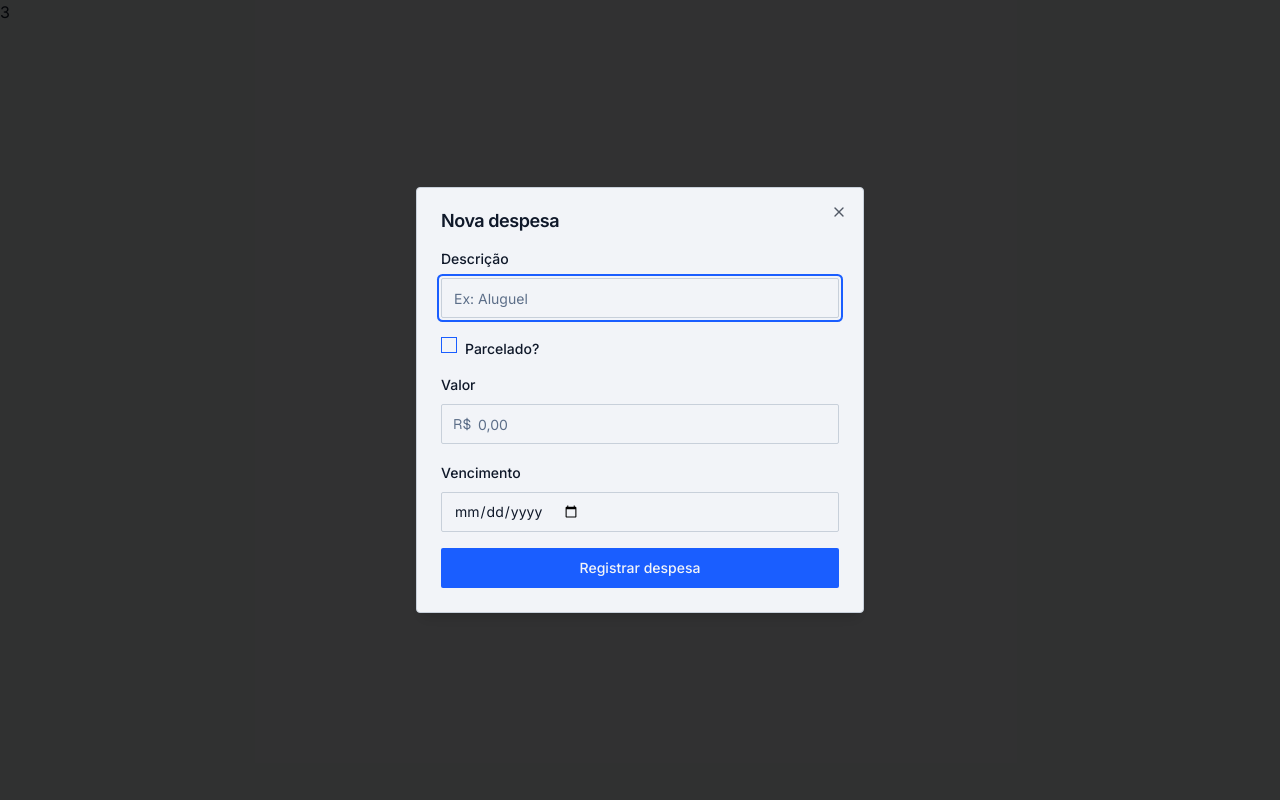
Test: LancamentoModal — Despesa parcelada › submeter parcelado envia 3 parcelas e lista a do mes vigente
Expected: the text with test id "total-despesas" reads "3", [0,2,10,22]
In the field labelled "Descrição": (640, 298) [441,278,839,318], type "Notebook"
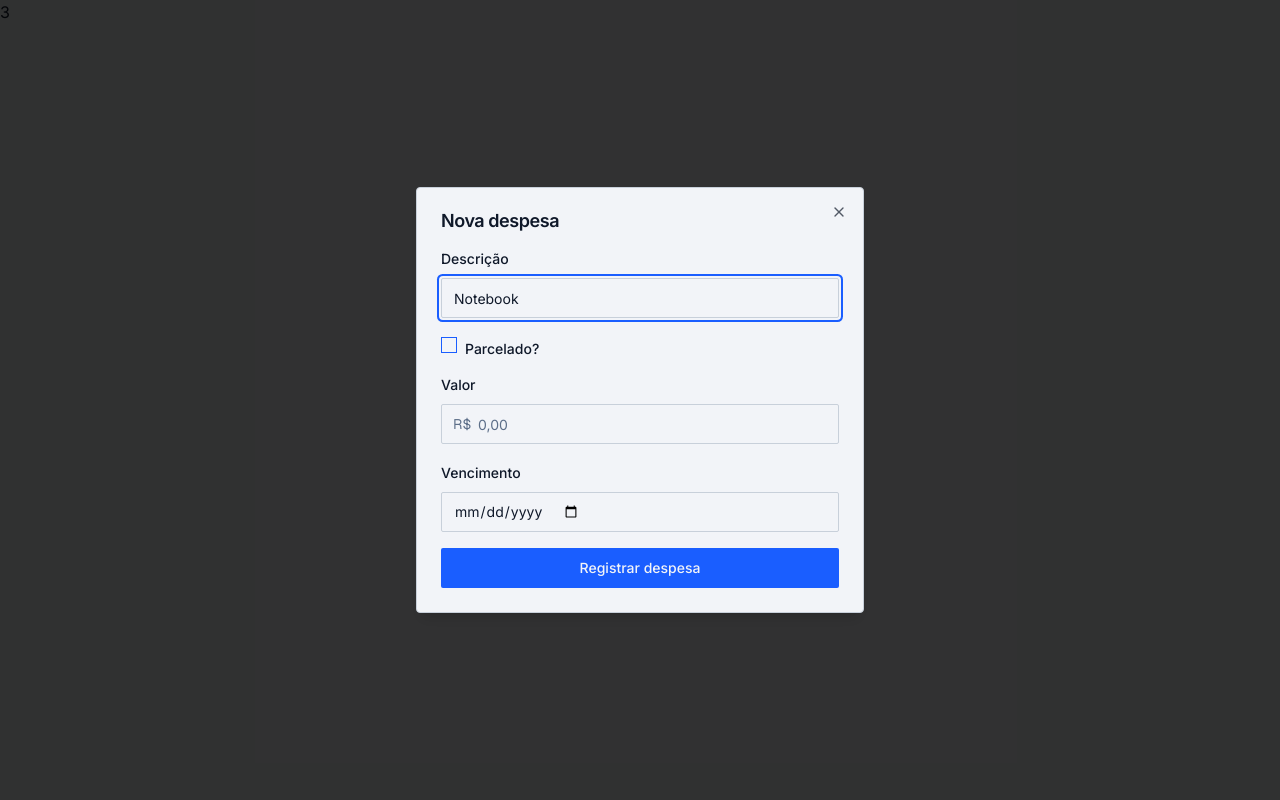
Click the checkbox named "Parcelado?": (449, 345) [441,337,457,353]
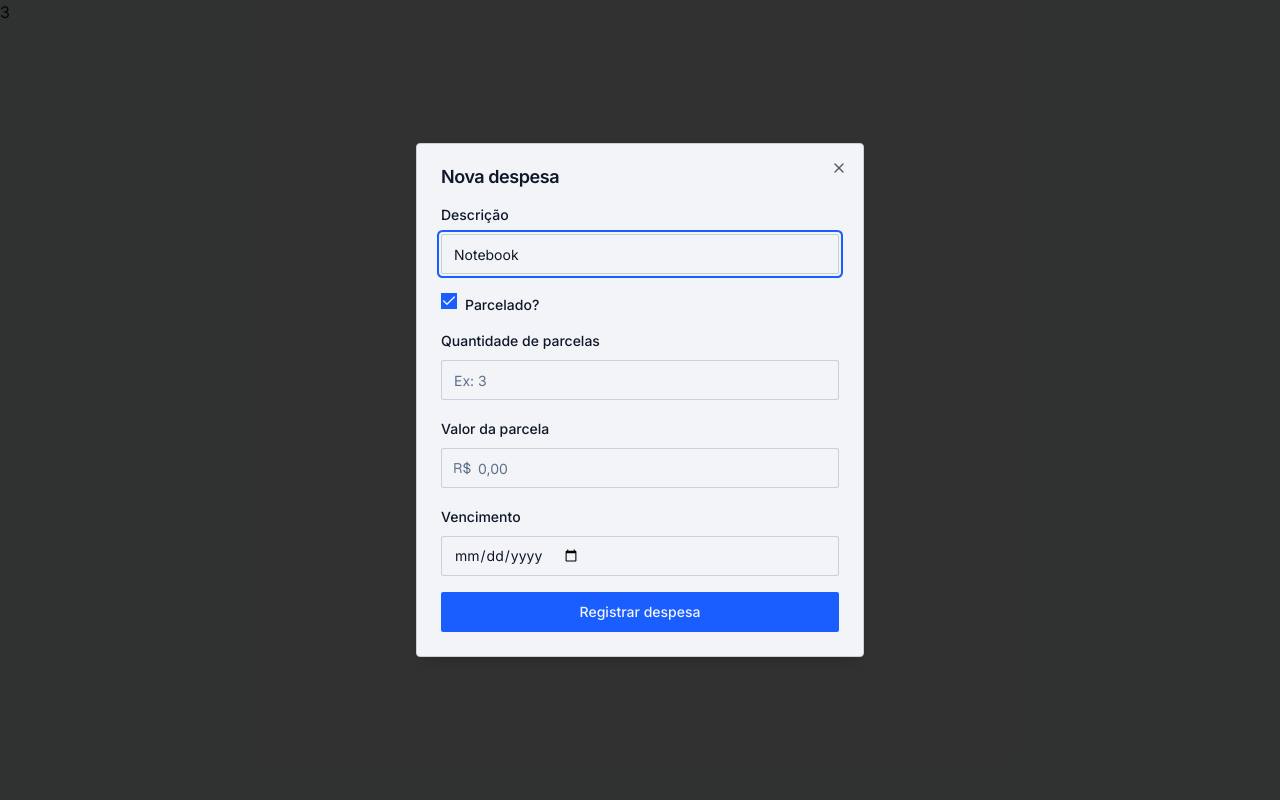
Expected: the number field labelled "Quantidade de parcelas" is shown
In the number field labelled "Quantidade de parcelas": (640, 380) [441,360,839,400], type "3"
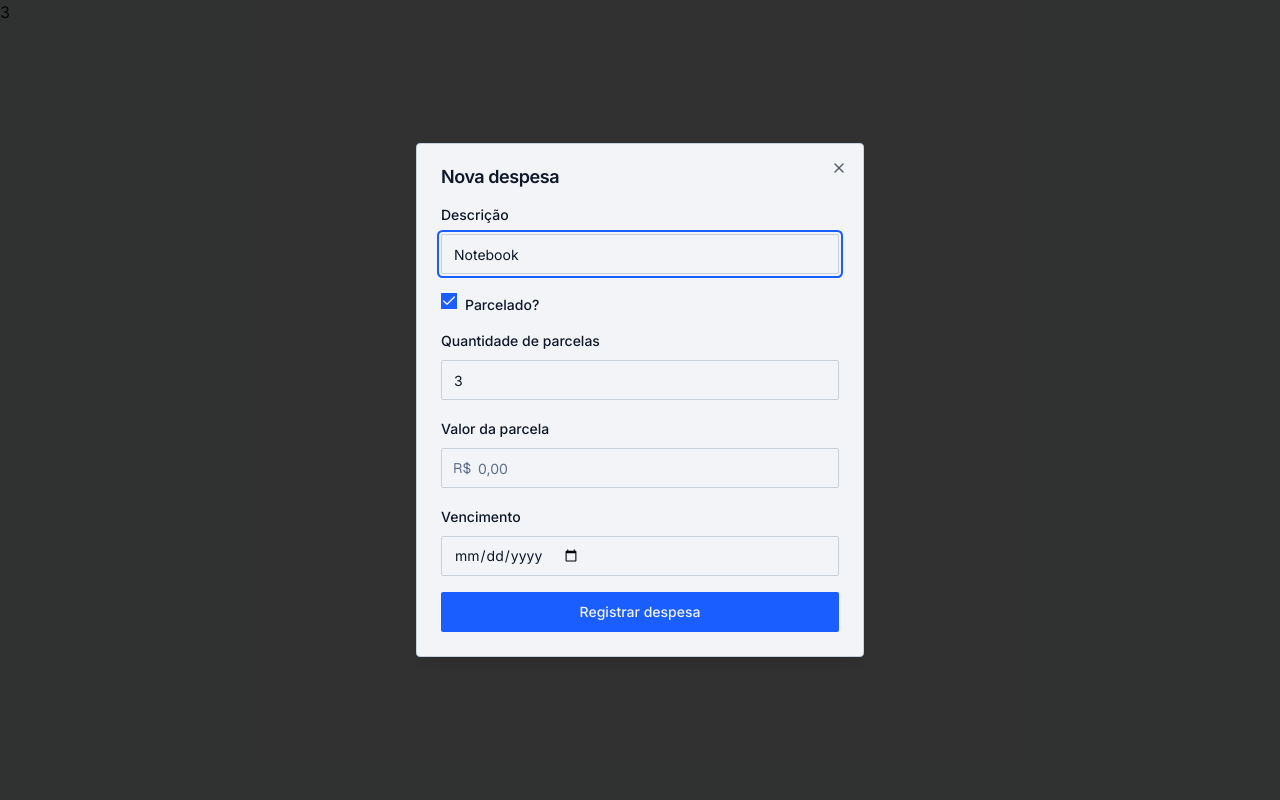
In the field labelled "Valor da parcela": (640, 468) [441,448,839,488], type "900"
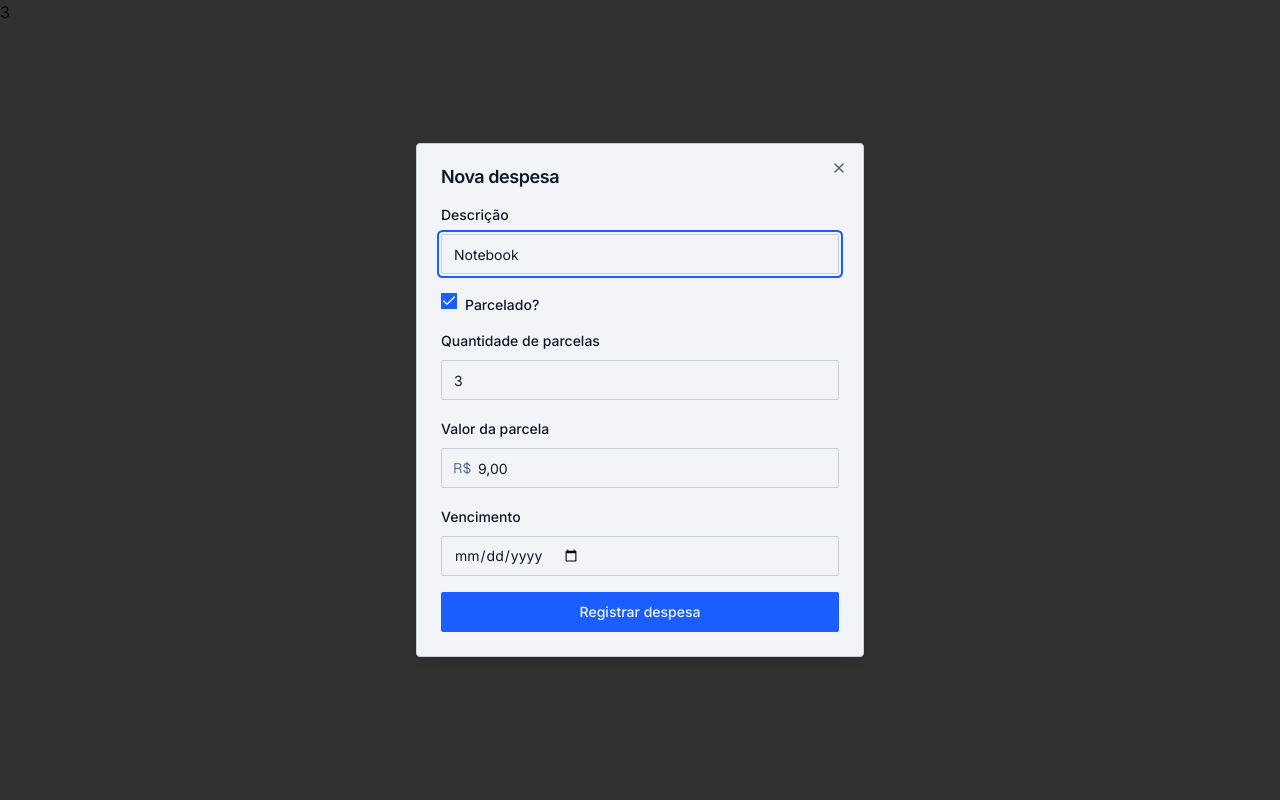
In the date field labelled "Vencimento": (640, 556) [441,536,839,576], type "2026-10-10"
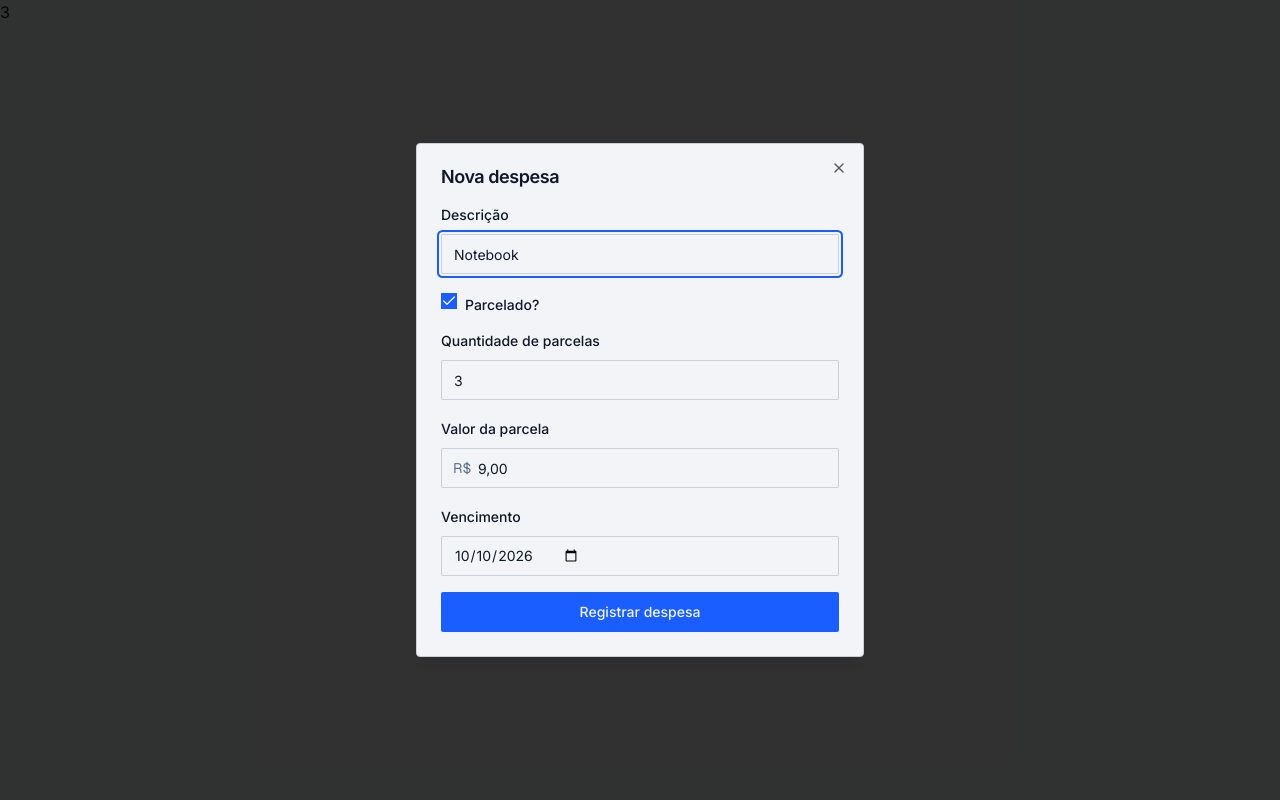
Click the button "Registrar despesa": (640, 612) [441,592,839,632]
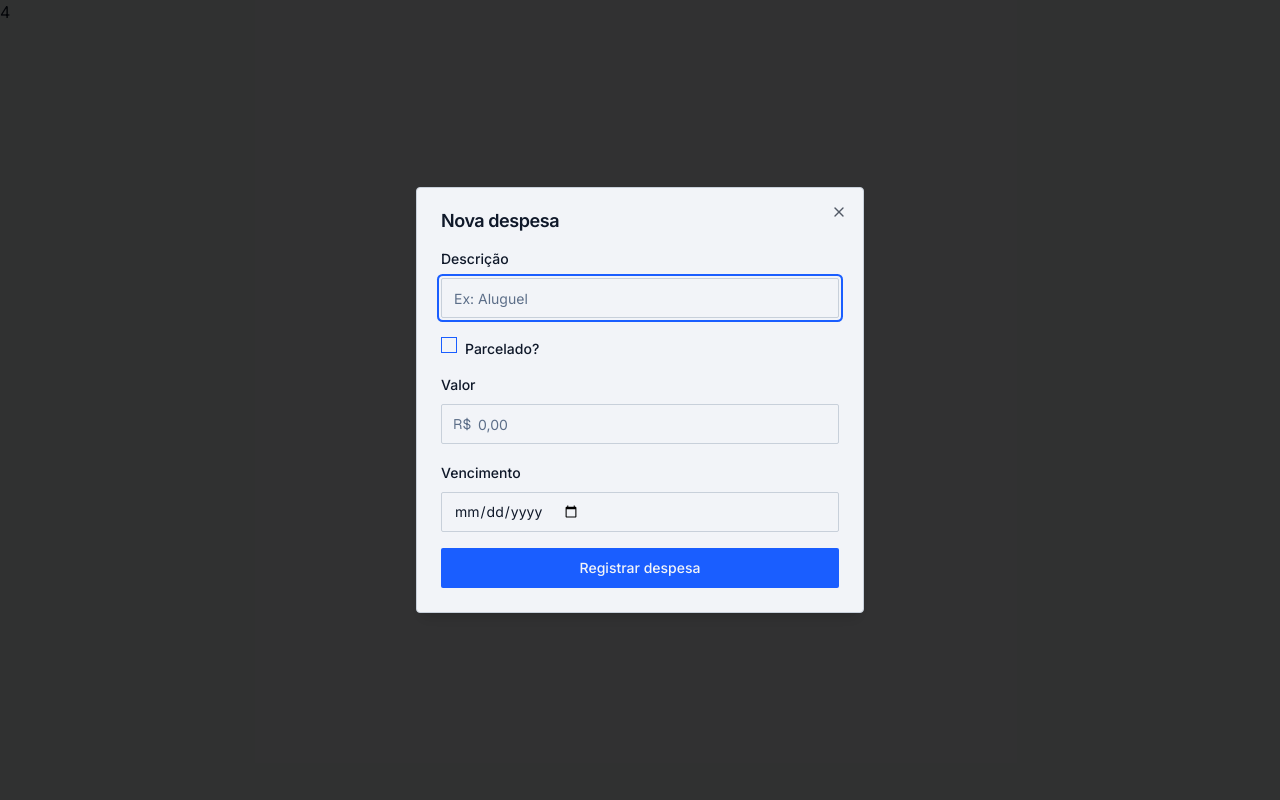
Expected: the text with test id "total-despesas" reads "4", [0,2,10,22]
